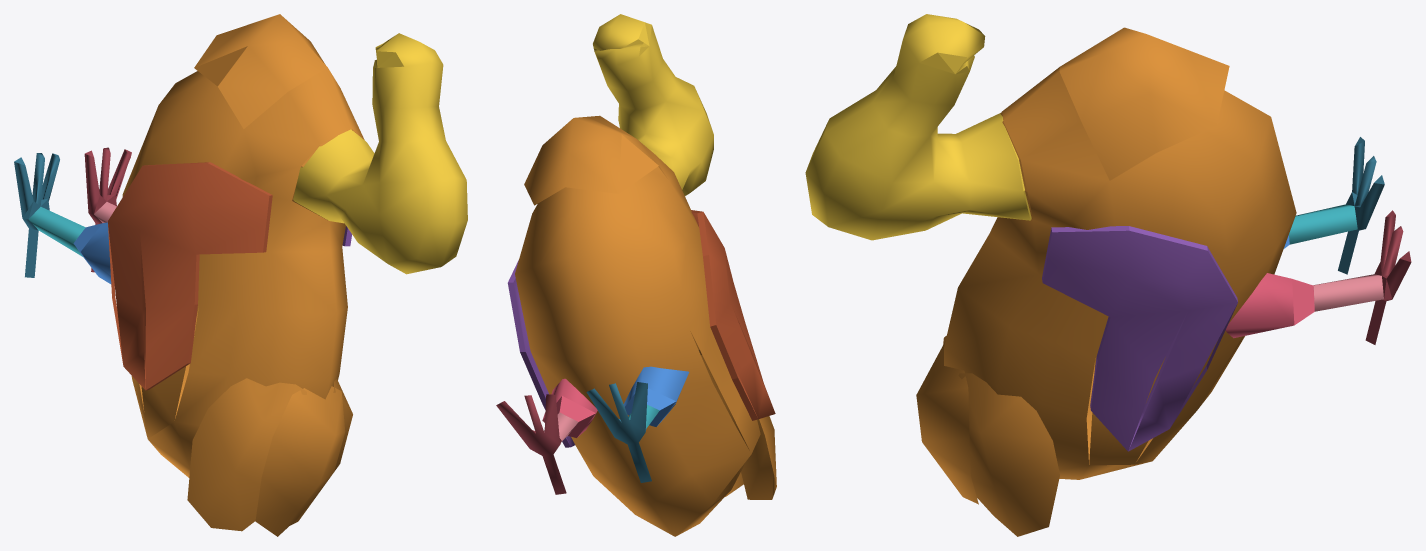
The model's file is dodo_1m_15grados.obj.
The picture shows the model from 3 angles, left to right: view 1: azimuth 30°, elevation 25°; view 2: azimuth 150°, elevation 25°; view 3: azimuth 270°, elevation 25°; orthographic projection. The views are drawn at different scales.
Parts seen in each view (by area): view 1: 01_cuerpo, 02_cabeza, 03_pieza_frontal, 07_pata_a_pie, 10_pata_b_pie, 05_pata_a_muslo, 06_pata_a_canilla; view 2: 01_cuerpo, 02_cabeza, 03_pieza_frontal, 07_pata_a_pie, 10_pata_b_pie, 05_pata_a_muslo, 04_pieza_lateral, 08_pata_b_muslo, 09_pata_b_canilla; view 3: 01_cuerpo, 02_cabeza, 04_pieza_lateral, 08_pata_b_muslo, 07_pata_a_pie, 10_pata_b_pie, 09_pata_b_canilla, 06_pata_a_canilla.
Part boxes in pixels (bbox=[...]): 01_cuerpo: bbox=[122, 14, 364, 536]; 02_cabeza: bbox=[293, 33, 467, 274]; 03_pieza_frontal: bbox=[108, 162, 272, 390]; 07_pata_a_pie: bbox=[14, 153, 59, 277]; 10_pata_b_pie: bbox=[84, 147, 131, 272]; 05_pata_a_muslo: bbox=[73, 222, 111, 284]; 06_pata_a_canilla: bbox=[28, 207, 85, 256]; 01_cuerpo: bbox=[515, 115, 776, 536]; 02_cabeza: bbox=[593, 14, 713, 195]; 03_pieza_frontal: bbox=[691, 210, 775, 420]; 07_pata_a_pie: bbox=[586, 382, 651, 482]; 10_pata_b_pie: bbox=[496, 394, 566, 494]; 05_pata_a_muslo: bbox=[623, 366, 689, 426]; 04_pieza_lateral: bbox=[507, 260, 574, 447]; 08_pata_b_muslo: bbox=[542, 378, 597, 437]; 09_pata_b_canilla: bbox=[544, 412, 578, 440]; 01_cuerpo: bbox=[916, 27, 1296, 536]; 02_cabeza: bbox=[805, 14, 1031, 240]; 04_pieza_lateral: bbox=[1042, 226, 1237, 451]; 08_pata_b_muslo: bbox=[1225, 273, 1314, 338]; 07_pata_a_pie: bbox=[1338, 137, 1384, 274]; 10_pata_b_pie: bbox=[1365, 210, 1411, 344]; 09_pata_b_canilla: bbox=[1313, 274, 1383, 311]; 06_pata_a_canilla: bbox=[1289, 204, 1357, 244].
Size of the model in its own units: 527 by 1019 by 1000.
